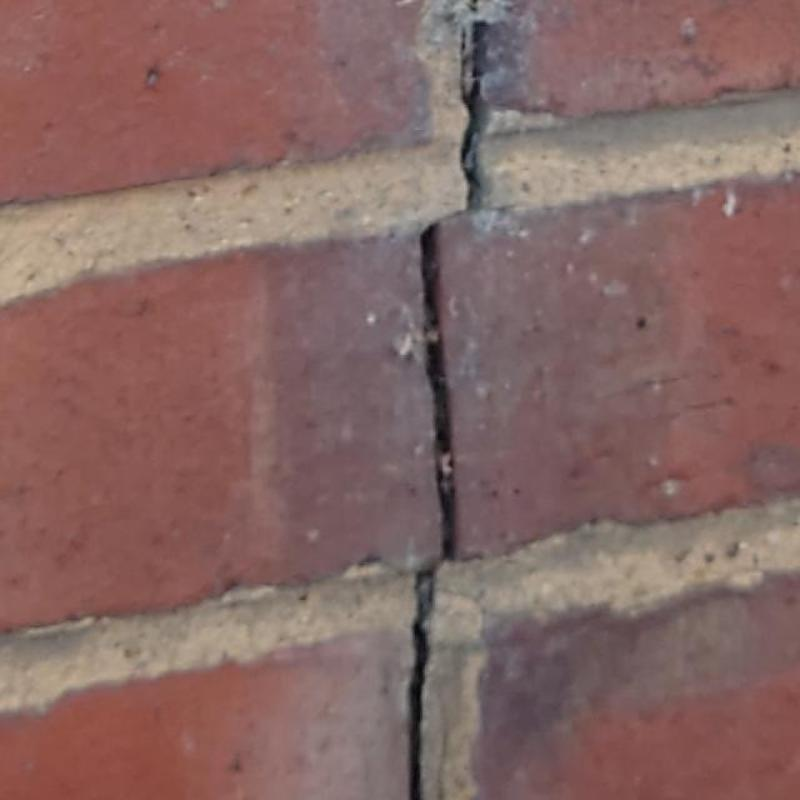crack: (422, 227, 453, 555), (408, 566, 434, 799), (461, 0, 489, 211), (436, 586, 519, 642), (438, 699, 449, 799), (429, 209, 468, 226)
